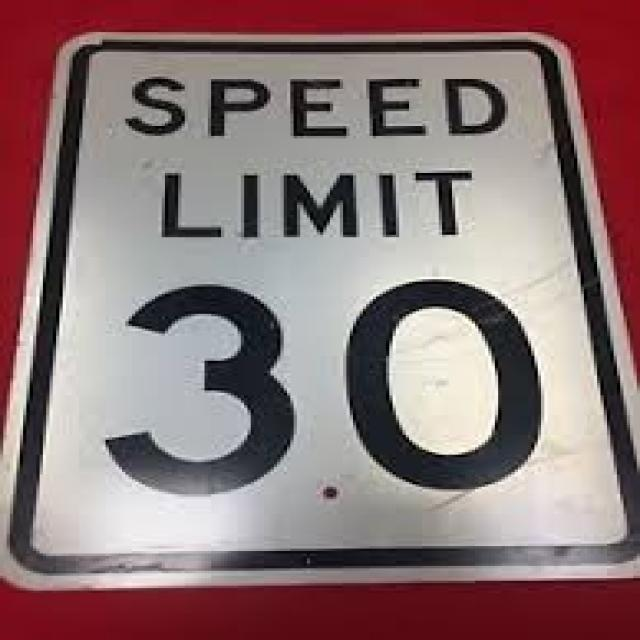speedLimit30: (3, 32, 630, 584)
